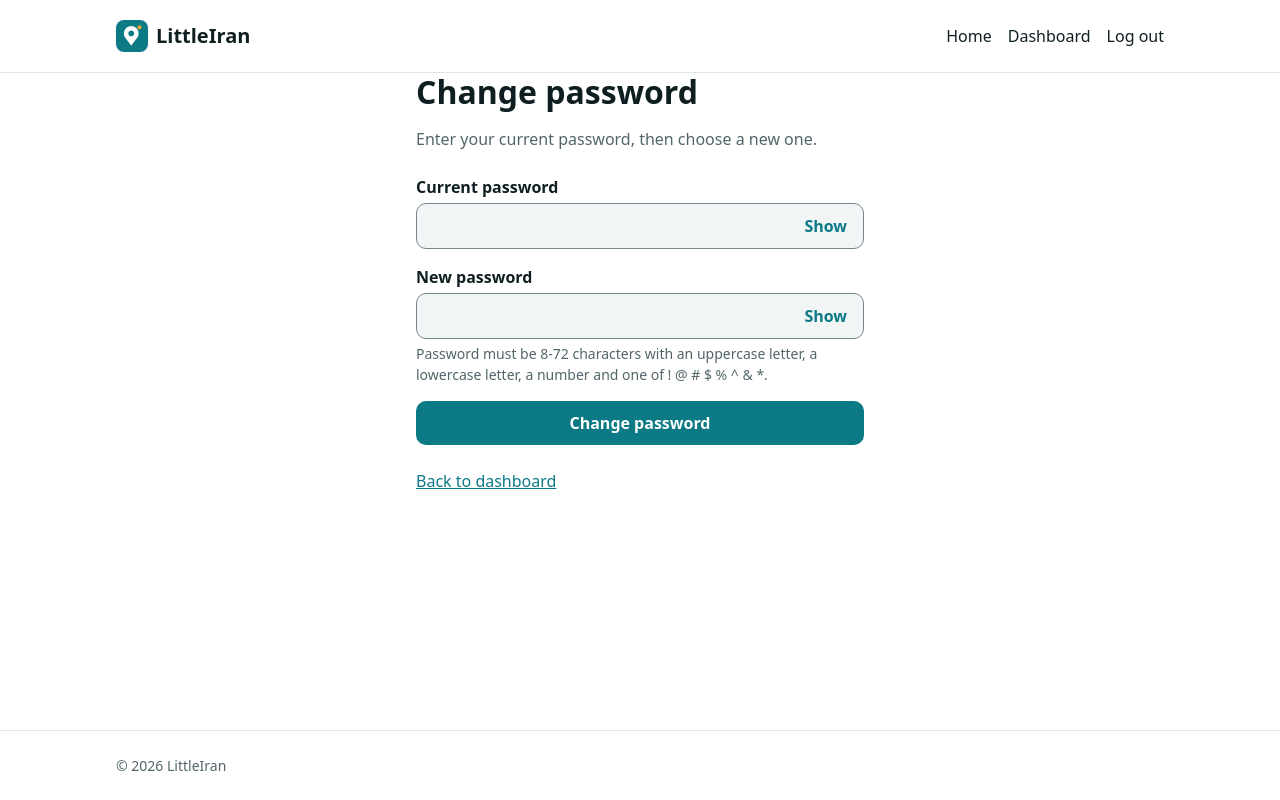
Test: Change password page › changes the password with the current one and says so
Check: the heading "Change password" is shown, box left=416, top=70, right=698, bottom=113
Step 1. Type "Test123@" into the password field labelled "Current password" → (603, 226), box left=417, top=204, right=788, bottom=248
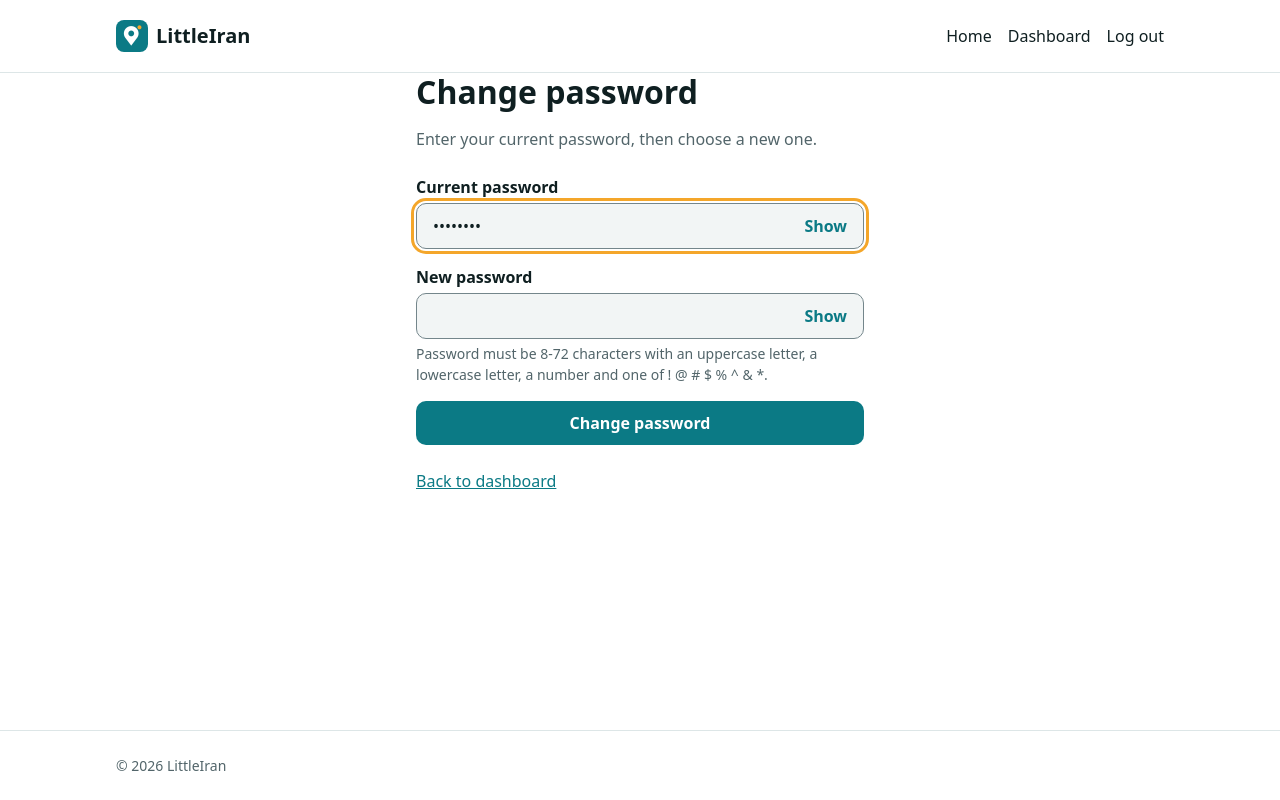
Step 2. Type "NewPass1!" into the password field labelled "New password" → (603, 316), box left=417, top=294, right=788, bottom=338
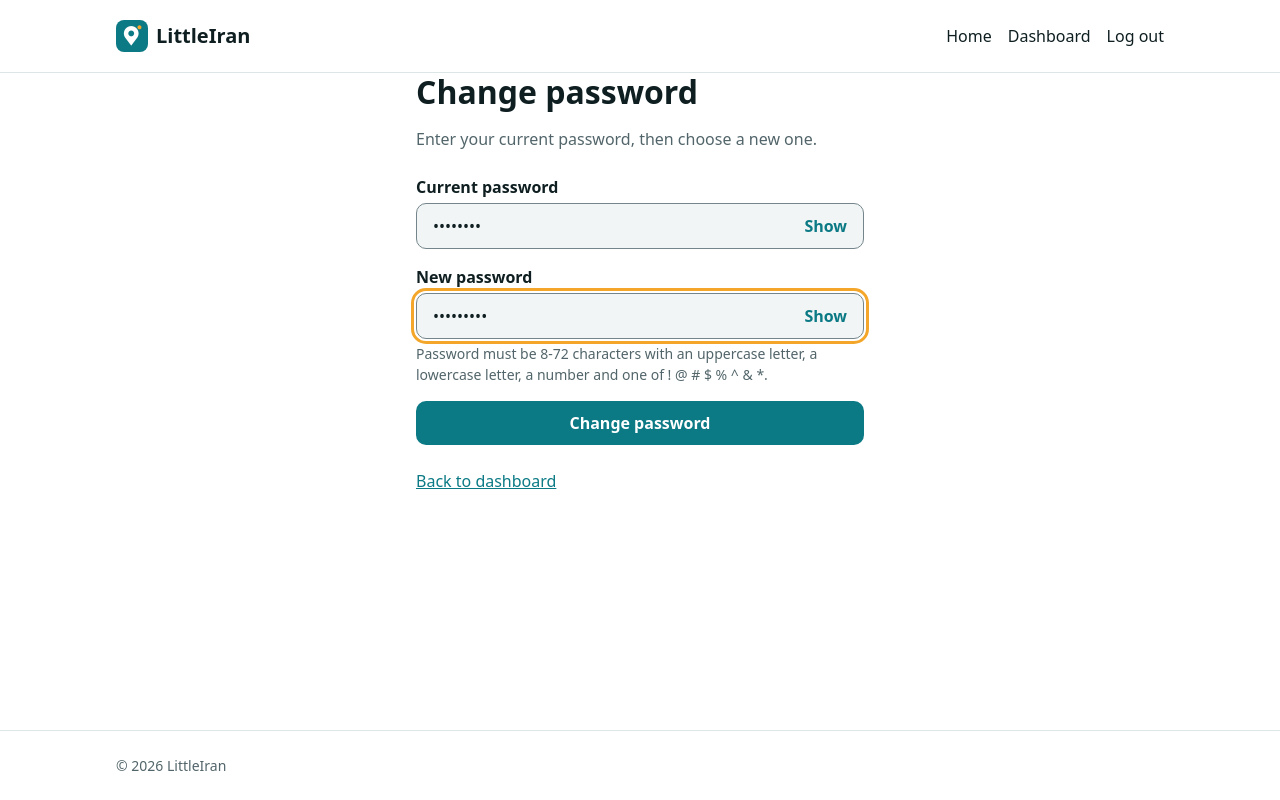
Step 3. Click the button "Change password" → (640, 423), box left=416, top=401, right=864, bottom=445
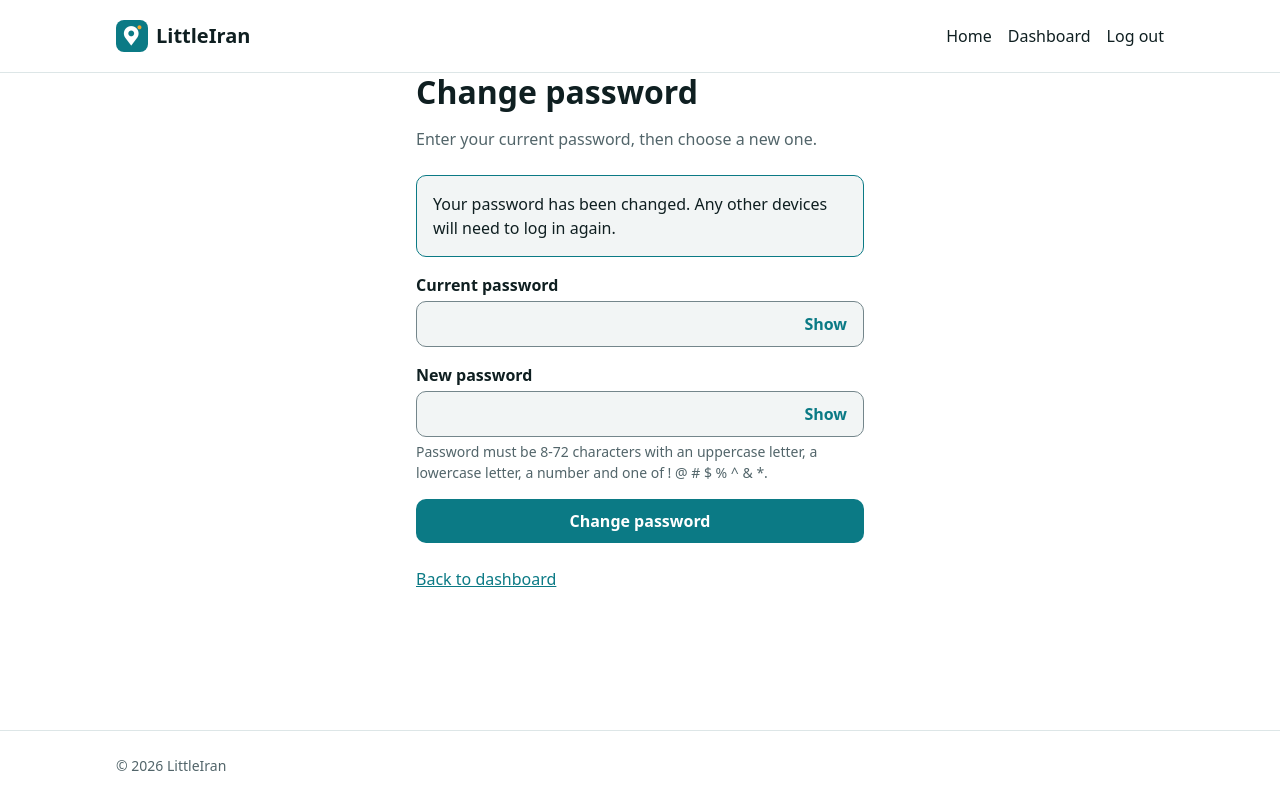
Check: the message shows "Your password has been changed.", box left=433, top=193, right=827, bottom=239
Check: the password field labelled "Current password" is empty, box left=417, top=302, right=788, bottom=346
Check: the password field labelled "New password" is empty, box left=417, top=392, right=788, bottom=436
